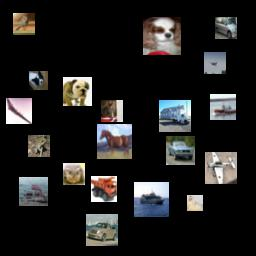airplane: (205, 152, 237, 184), (6, 98, 32, 124), (204, 52, 226, 74)
automobile: (86, 214, 118, 246), (166, 136, 195, 165), (215, 17, 237, 39)
bird: (13, 13, 35, 35)
dog: (143, 17, 181, 55), (63, 77, 92, 106), (29, 71, 48, 90), (187, 195, 203, 211)
frog: (63, 163, 85, 185), (28, 135, 50, 157)
ship: (134, 182, 169, 217), (19, 177, 48, 206), (210, 94, 236, 120)
truck: (159, 100, 191, 132), (91, 176, 117, 202)
